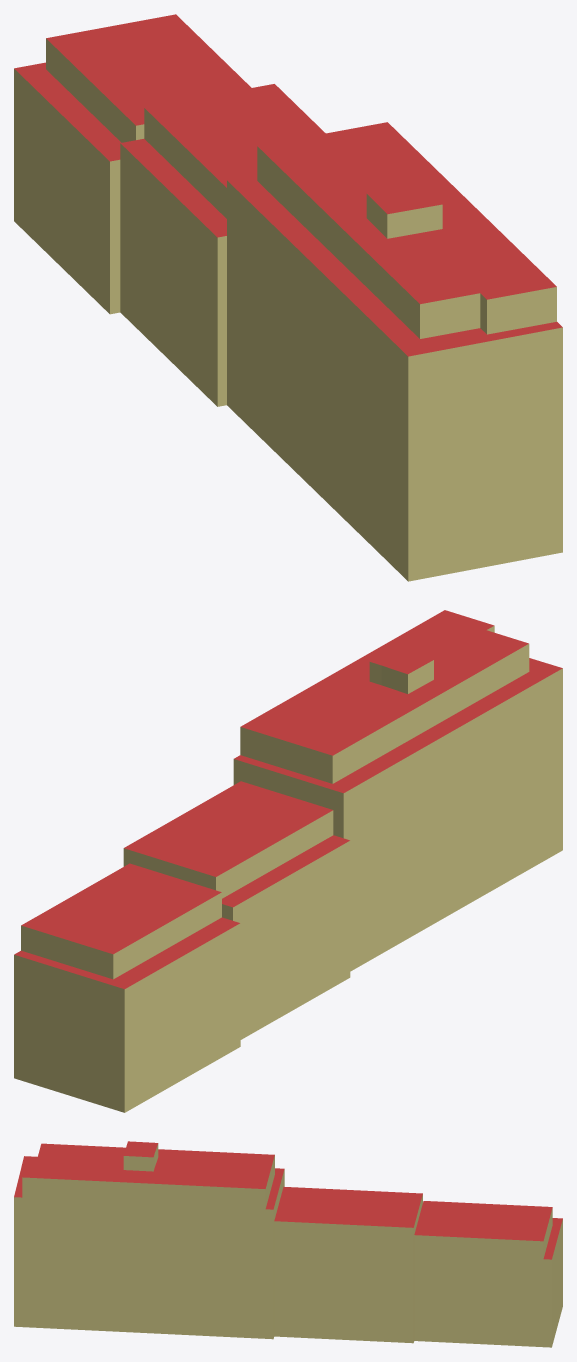
3 renders of one model, top to bottom at view 1: azimuth 30°, elevation 25°; view 2: azimuth 150°, elevation 25°; view 3: azimuth 270°, elevation 25°, orthographic. The views are drawn at different scales.
Parts seen in each view (by area): view 1: group_21, group_12, group_18, group_10, group_3, group_15, group_6, group_20, group_4, group_9, group_17, group_7 (+2 smaller); view 2: group_21, group_10, group_18, group_12, group_6, group_3, group_15, group_4, group_7, group_20, group_9, group_17 (+2 smaller); view 3: group_15, group_7, group_4, group_12, group_6, group_3, group_21, group_10, group_20, group_14, group_13, group_9.
Part boxes in pixels (x1=…): group_21: x1=227, y1=180, x2=562, y2=581; group_12: x1=257, y1=122, x2=556, y2=304; group_18: x1=120, y1=143, x2=226, y2=406; group_10: x1=14, y1=69, x2=120, y2=314; group_3: x1=46, y1=14, x2=251, y2=125; group_15: x1=257, y1=146, x2=556, y2=338; group_6: x1=144, y1=84, x2=325, y2=187; group_20: x1=227, y1=174, x2=562, y2=356; group_4: x1=46, y1=38, x2=144, y2=142; group_9: x1=14, y1=62, x2=121, y2=161; group_17: x1=120, y1=139, x2=226, y2=237; group_7: x1=144, y1=108, x2=226, y2=218; group_21: x1=233, y1=668, x2=562, y2=971; group_10: x1=14, y1=923, x2=240, y2=1112; group_18: x1=222, y1=841, x2=350, y2=1039; group_12: x1=240, y1=610, x2=528, y2=755; group_6: x1=124, y1=781, x2=332, y2=876; group_3: x1=21, y1=863, x2=221, y2=954; group_15: x1=240, y1=626, x2=529, y2=783; group_4: x1=21, y1=892, x2=221, y2=979; group_7: x1=123, y1=810, x2=333, y2=898; group_20: x1=234, y1=658, x2=562, y2=793; group_9: x1=14, y1=917, x2=239, y2=989; group_17: x1=222, y1=835, x2=349, y2=907; group_15: x1=22, y1=1155, x2=274, y2=1338; group_7: x1=274, y1=1194, x2=422, y2=1343; group_4: x1=414, y1=1208, x2=552, y2=1347; group_12: x1=22, y1=1143, x2=274, y2=1188; group_6: x1=274, y1=1186, x2=422, y2=1227; group_3: x1=414, y1=1201, x2=552, y2=1241; group_21: x1=14, y1=1169, x2=284, y2=1339; group_10: x1=543, y1=1219, x2=562, y2=1347; group_20: x1=14, y1=1156, x2=284, y2=1209; group_14: x1=123, y1=1144, x2=158, y2=1171; group_13: x1=123, y1=1141, x2=158, y2=1157; group_9: x1=543, y1=1218, x2=562, y2=1259.
Size of the model in its own units: 17.79 by 66.71 by 21.97.
